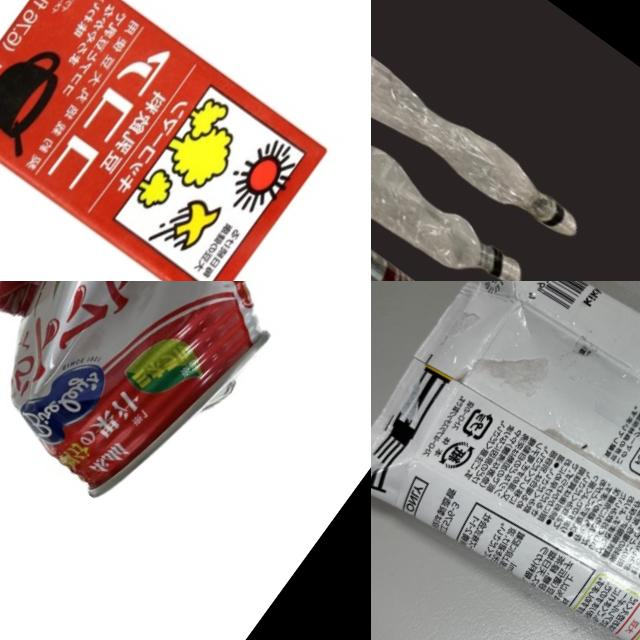Aluminium Foil: (371, 281, 640, 640), (0, 0, 341, 281)
Can: (0, 281, 316, 543), (371, 174, 489, 281)
Transparent Plastic Bottle: (371, 37, 594, 259), (371, 80, 536, 281)
